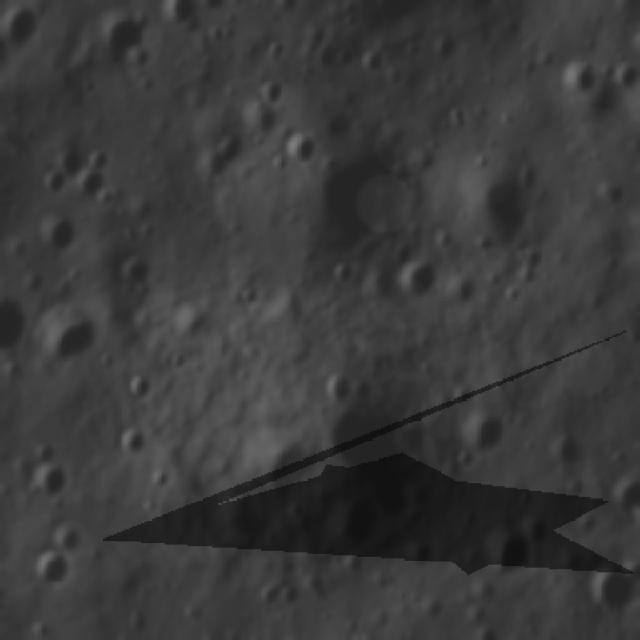crater: (302, 131, 422, 257), (318, 406, 416, 489), (468, 169, 532, 245), (256, 436, 312, 504), (44, 308, 104, 366), (200, 124, 249, 191), (481, 519, 532, 583), (95, 11, 150, 64), (590, 561, 636, 624), (336, 498, 384, 558), (458, 411, 509, 455), (402, 258, 444, 308), (362, 264, 406, 310), (29, 548, 74, 590), (3, 4, 40, 54), (557, 59, 598, 104), (37, 212, 74, 260), (283, 125, 320, 173), (22, 466, 68, 500), (53, 520, 92, 558), (320, 369, 358, 408), (545, 435, 583, 473), (115, 426, 151, 463), (76, 167, 109, 207), (449, 270, 482, 310), (610, 478, 638, 518), (120, 373, 154, 404), (258, 74, 288, 106), (42, 168, 68, 203), (573, 509, 602, 540), (433, 31, 459, 64), (529, 513, 551, 549), (362, 46, 387, 77), (262, 36, 288, 64), (451, 383, 480, 408)
